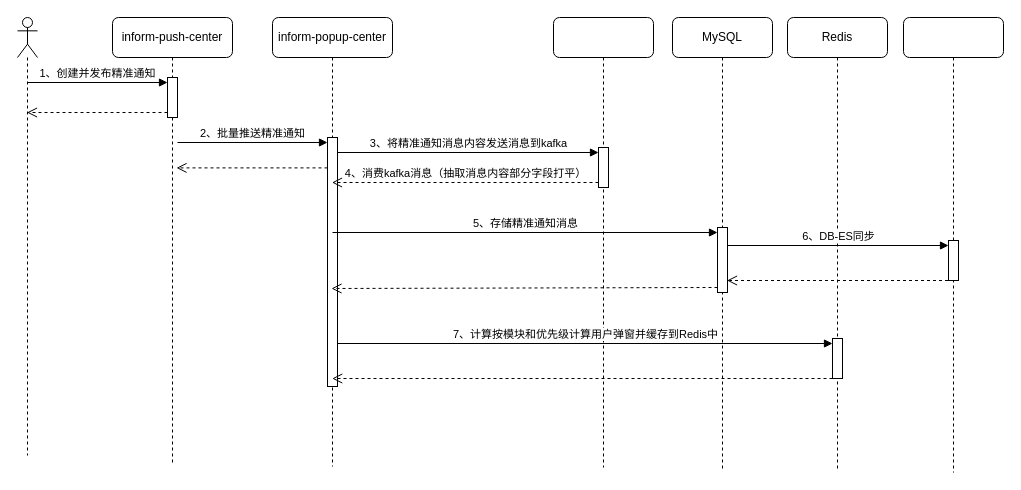
This 1021x490 diagram has some shape labels left out. The shapes that lost their labels are listed below. From the top down, each one's box as (x1, y1, x2, y2) in pixels, then its label:
(552, 16, 654, 468): Kafka集群
(902, 16, 1004, 472): ES
